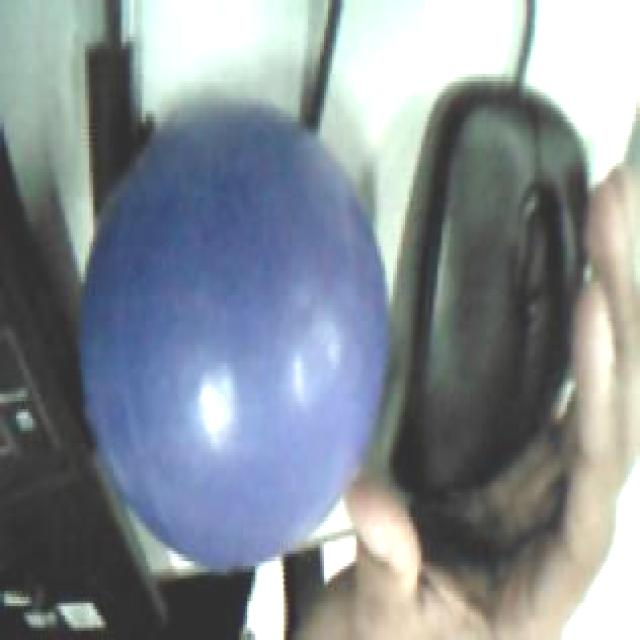BallPurple: (80, 98, 389, 571)
